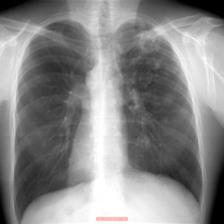tuberculosis: (8, 14, 204, 224)
